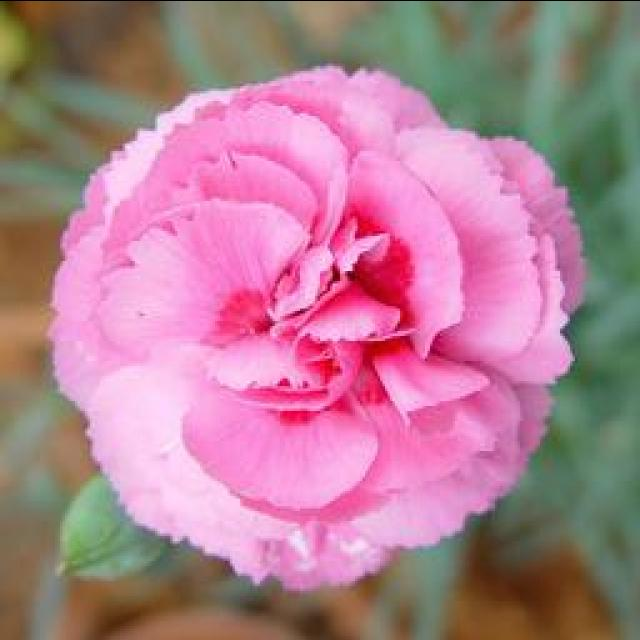carnation: (33, 55, 607, 600)
